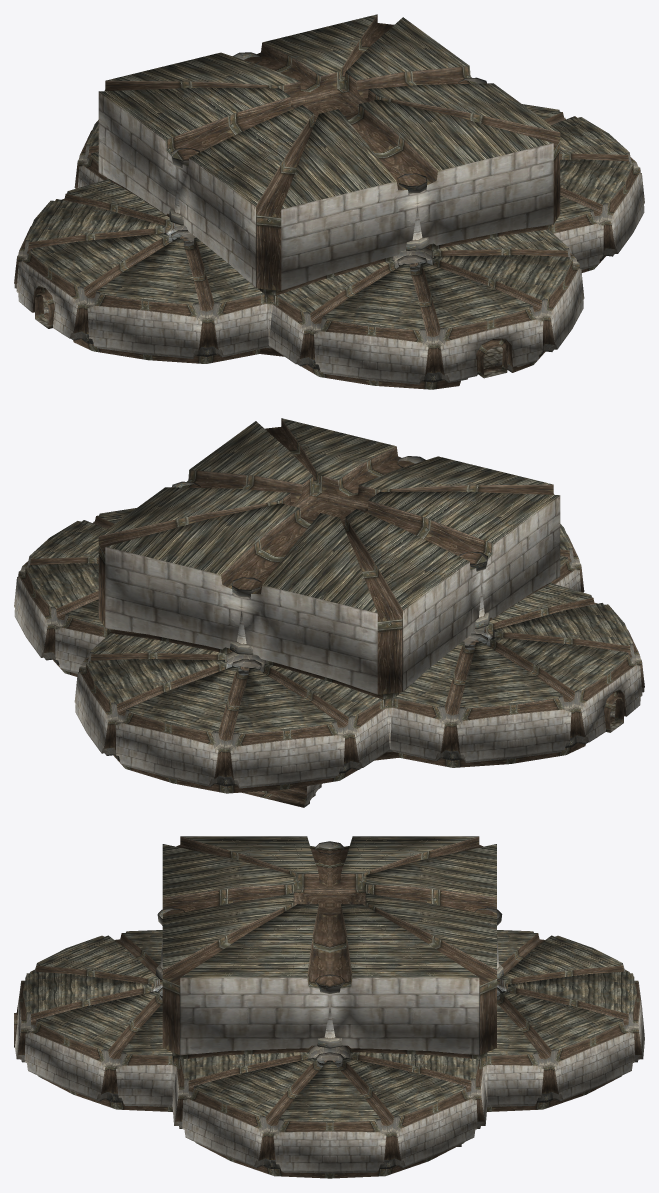
File: stormwind_184.fbx
The picture shows the model from 3 angles, top to bottom: view 1: azimuth 30°, elevation 25°; view 2: azimuth 150°, elevation 25°; view 3: azimuth 270°, elevation 25°; orthographic projection. The views are drawn at different scales.
Visible parts, largest first — view 1: stormwind_184_178, stormwind_184_177, stormwind_184_176, stormwind_184_179; view 2: stormwind_184_178, stormwind_184_177, stormwind_184_176; view 3: stormwind_184_178, stormwind_184_176, stormwind_184_177.
Boxes of the visible parts, x1=… form: stormwind_184_178: x1=26, y1=14, x2=632, y2=330; stormwind_184_177: x1=16, y1=92, x2=644, y2=383; stormwind_184_176: x1=14, y1=15, x2=641, y2=389; stormwind_184_179: x1=35, y1=297, x2=506, y2=378; stormwind_184_178: x1=26, y1=418, x2=632, y2=733; stormwind_184_177: x1=14, y1=495, x2=642, y2=804; stormwind_184_176: x1=17, y1=418, x2=644, y2=807; stormwind_184_178: x1=23, y1=836, x2=636, y2=1122; stormwind_184_176: x1=14, y1=836, x2=642, y2=1178; stormwind_184_177: x1=15, y1=937, x2=644, y2=1171.
Size of the model in its own units: 68.09 by 28.3 by 68.09.
